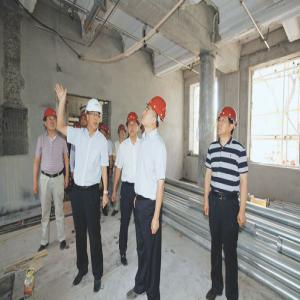red: (142, 97, 168, 132), (217, 107, 237, 141), (44, 108, 58, 133), (128, 111, 140, 139), (118, 124, 127, 141), (80, 110, 88, 128), (100, 124, 108, 138)
white: (87, 97, 103, 131)
